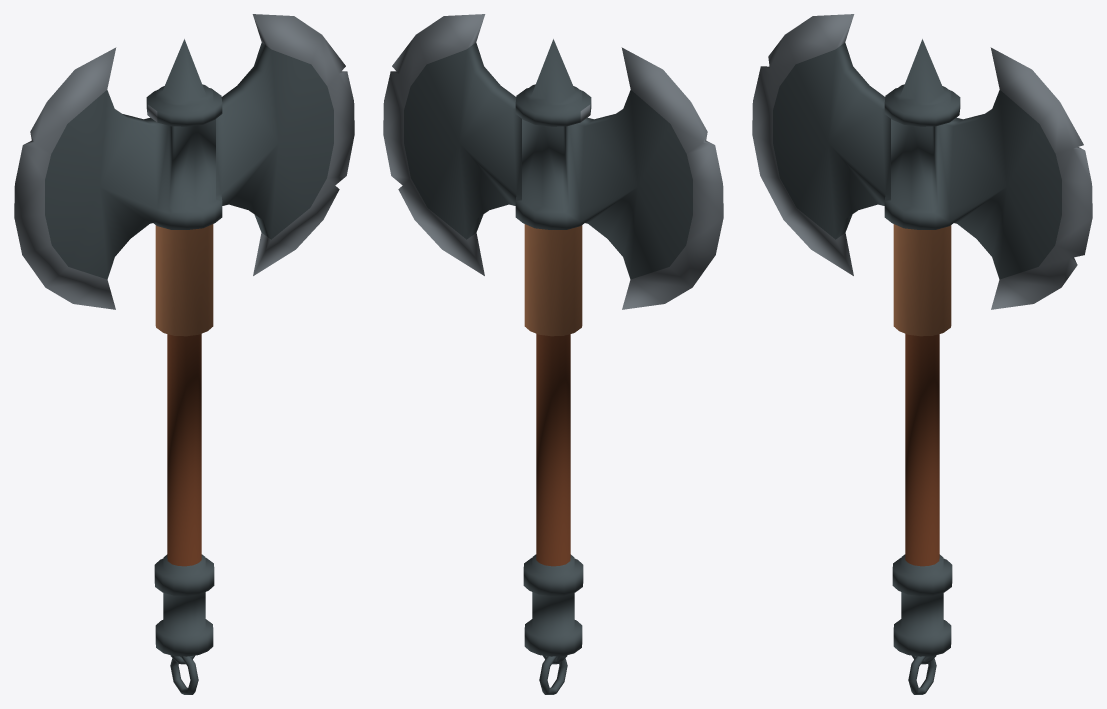
Rendered from Axe_08 (2).fbx.
The picture shows the model from 3 angles, left to right: view 1: azimuth 30°, elevation 25°; view 2: azimuth 150°, elevation 25°; view 3: azimuth 330°, elevation 25°; orthographic projection.
Visible parts, largest first — view 1: Cube; view 2: Cube; view 3: Cube.
Part boxes in pixels (box(x1,y1,x2,y2)): Cube: box(14, 14, 354, 694); Cube: box(383, 14, 723, 694); Cube: box(752, 14, 1092, 694).
Size of the model in its own units: 355 by 662 by 67.16.
1 material, 1 textured.
